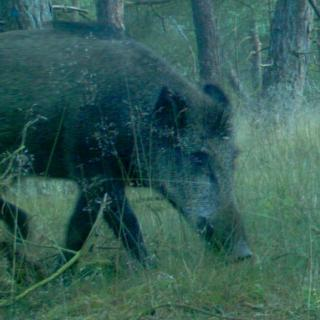Pig: (7, 34, 256, 269)
